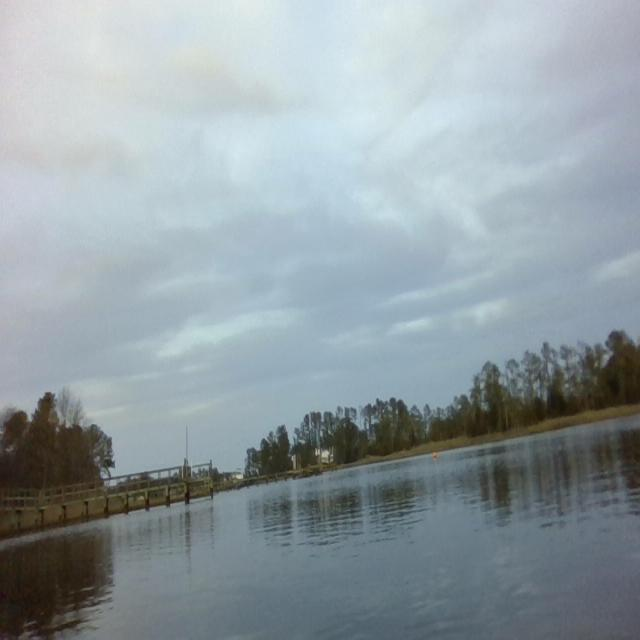Buoy: (432, 450, 438, 460)
